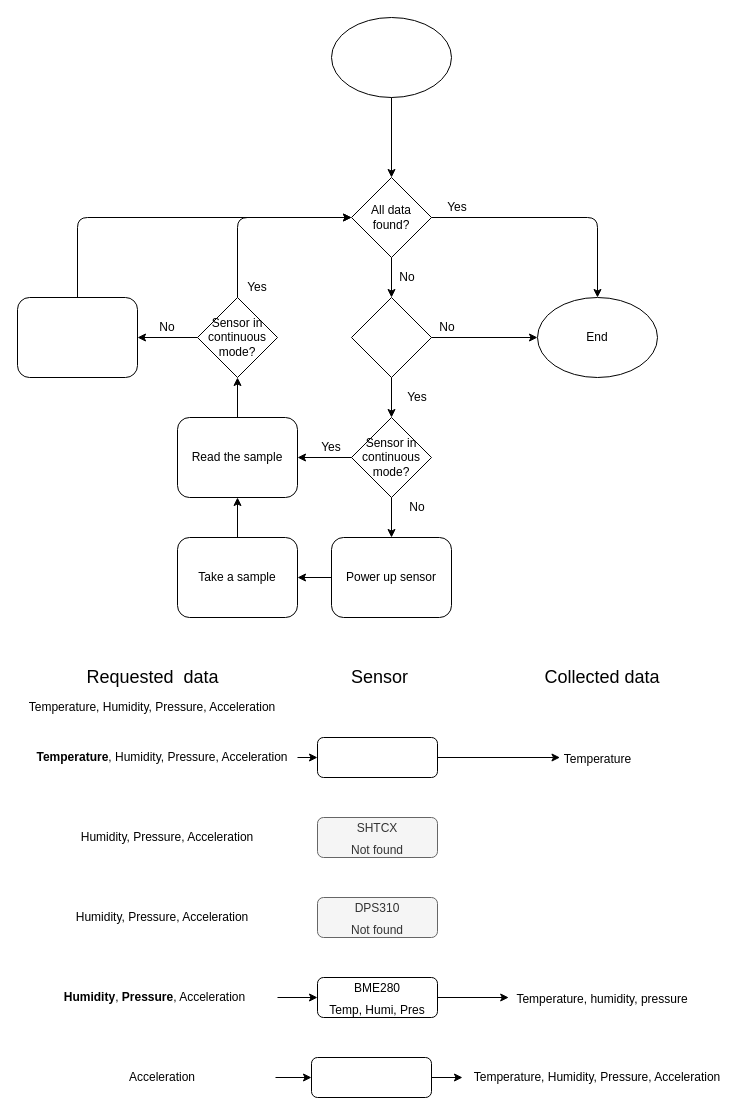
The diagram is 750 pixels wide and 1116 high, and some of its shapes have lost their labels. The centre of each missing label's shape, as x and y in pixels:
LIS2DH12 Acceleration: point (371, 1077)
Next sensor available?: point (391, 337)
Power down sensor: point (77, 337)
Start: point (391, 57)
TMP117 Temperature: point (377, 757)
